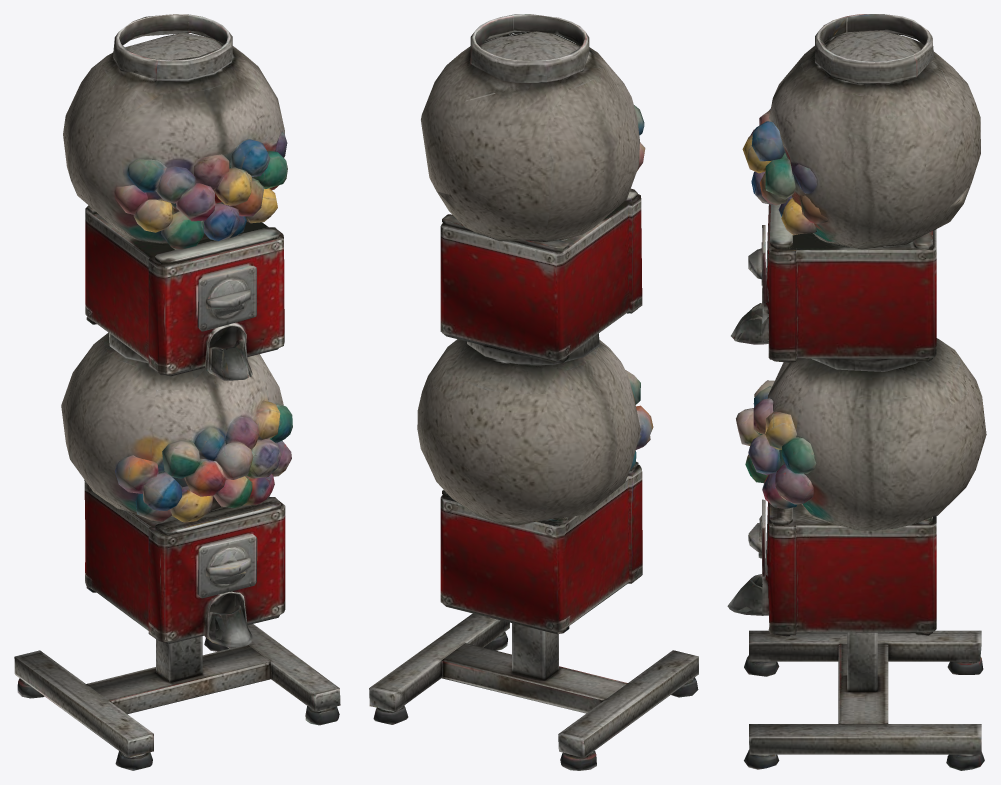
Rendered from p7-capsule-toy-machine-t25.glb.
3 renders of one model, left to right at view 1: azimuth 30°, elevation 25°; view 2: azimuth 150°, elevation 25°; view 3: azimuth 270°, elevation 25°, orthographic. The views are drawn at different scales.
Parts seen in each view (by area): view 1: p7-capsule-toy-machine-t25; view 2: p7-capsule-toy-machine-t25; view 3: p7-capsule-toy-machine-t25.
Part boxes in pixels (x1=…): p7-capsule-toy-machine-t25: x1=14, y1=14, x2=340, y2=770; p7-capsule-toy-machine-t25: x1=369, y1=14, x2=698, y2=770; p7-capsule-toy-machine-t25: x1=727, y1=14, x2=986, y2=770.
Bounding box in the file's own units: 0.45 × 1.3 × 0.45.
1 material, 1 textured.
